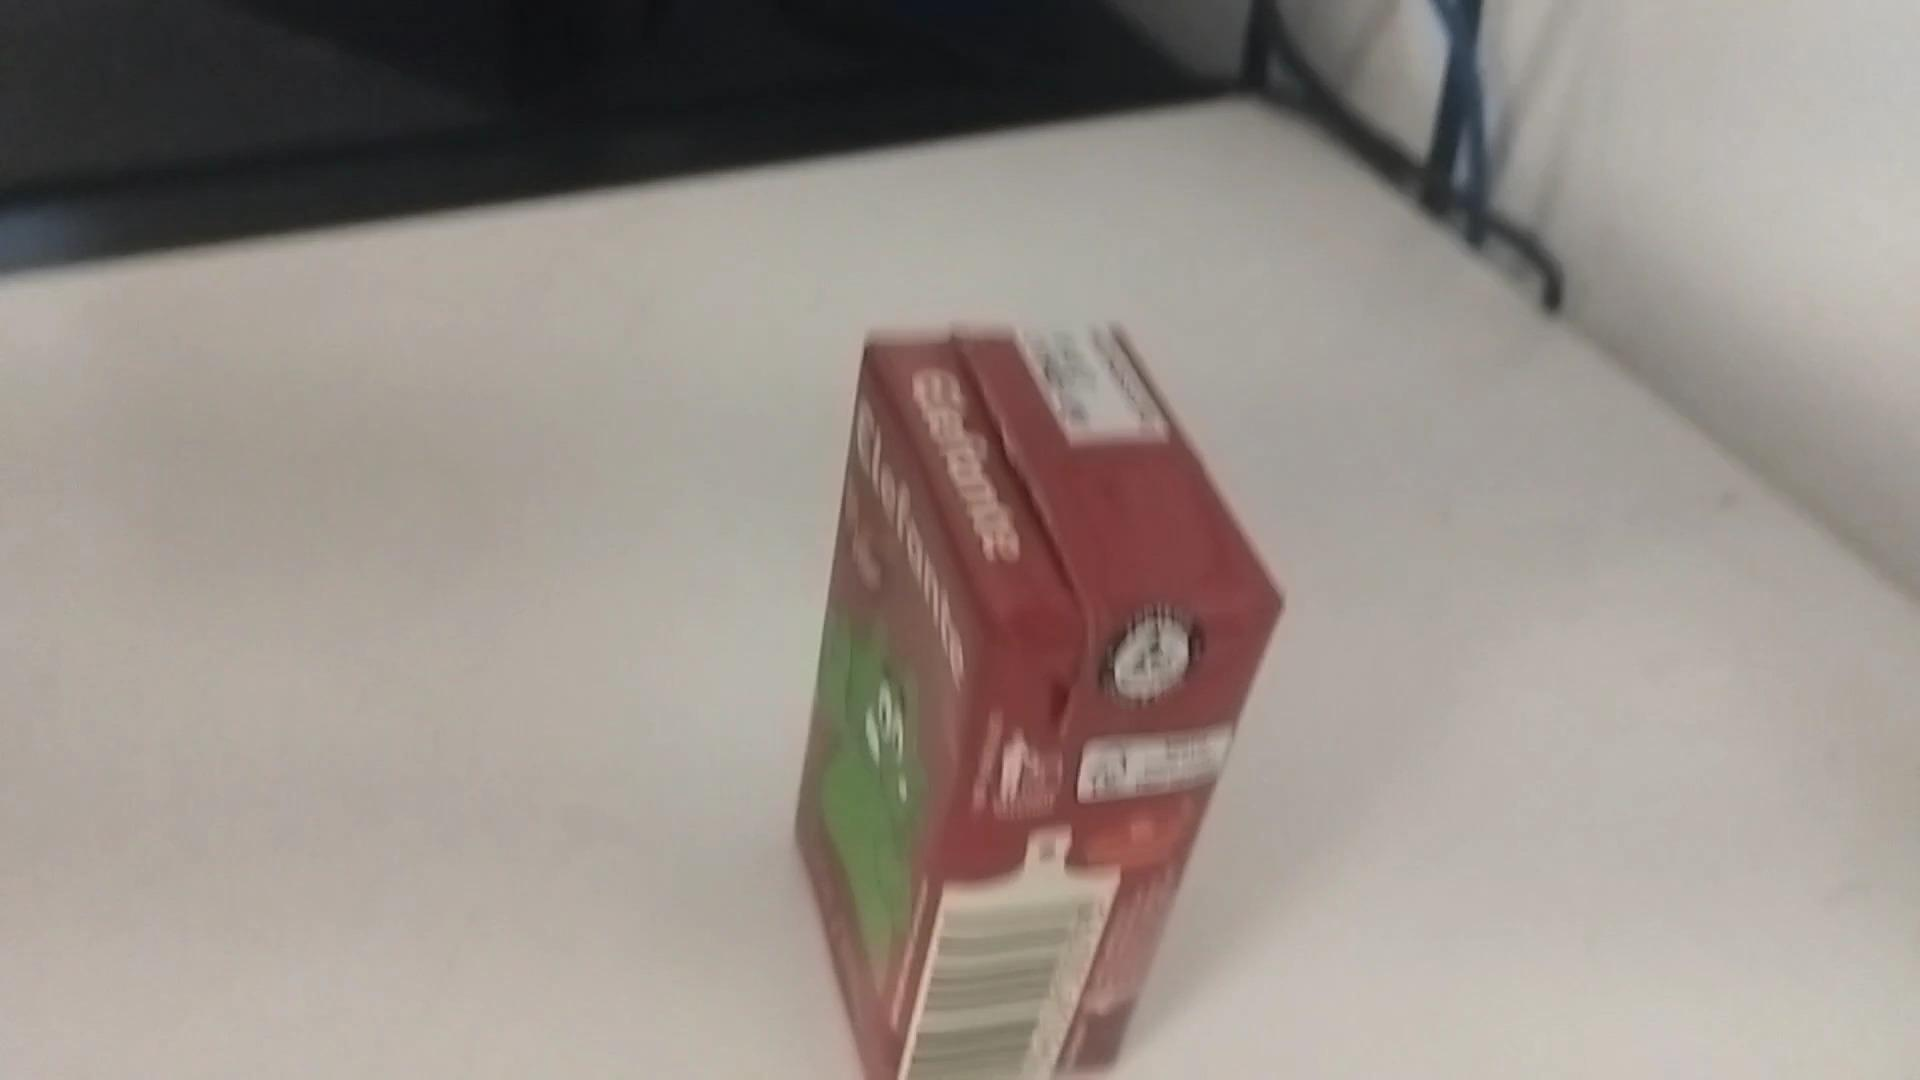tomate: (787, 307, 1291, 1080)
